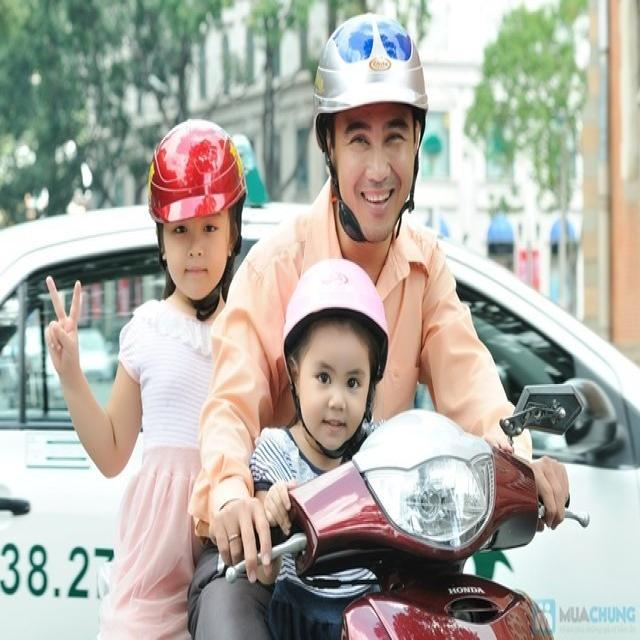helmet: (282, 255, 388, 381), (315, 12, 429, 116), (147, 118, 248, 227)
